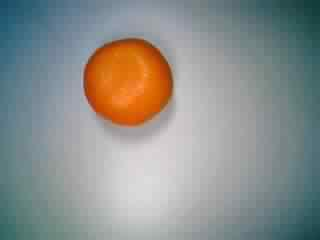orange: (81, 34, 172, 127)
